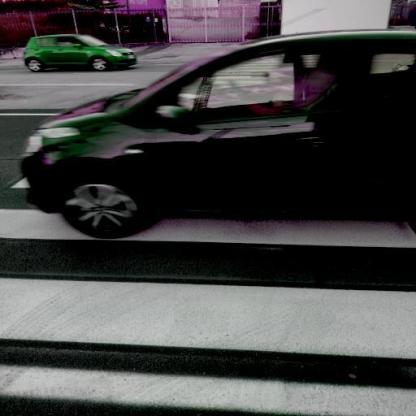crosswalk: (1, 207, 415, 371)
